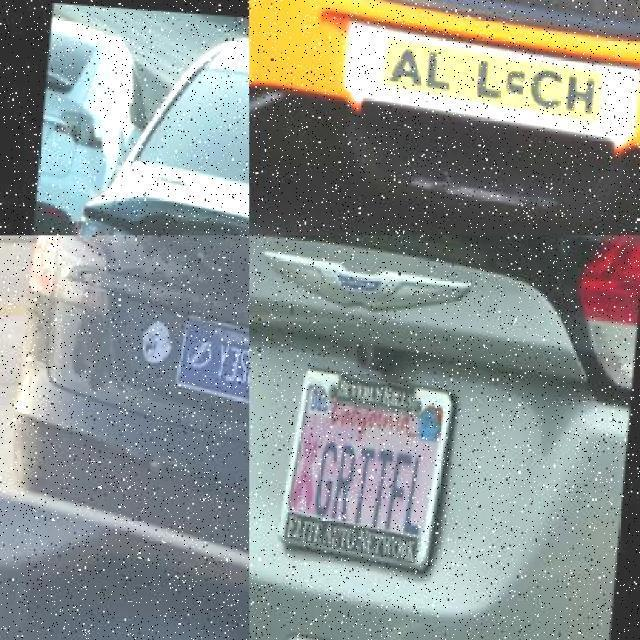LicensePlate: (343, 17, 639, 138), (280, 363, 446, 572), (173, 308, 248, 400)
